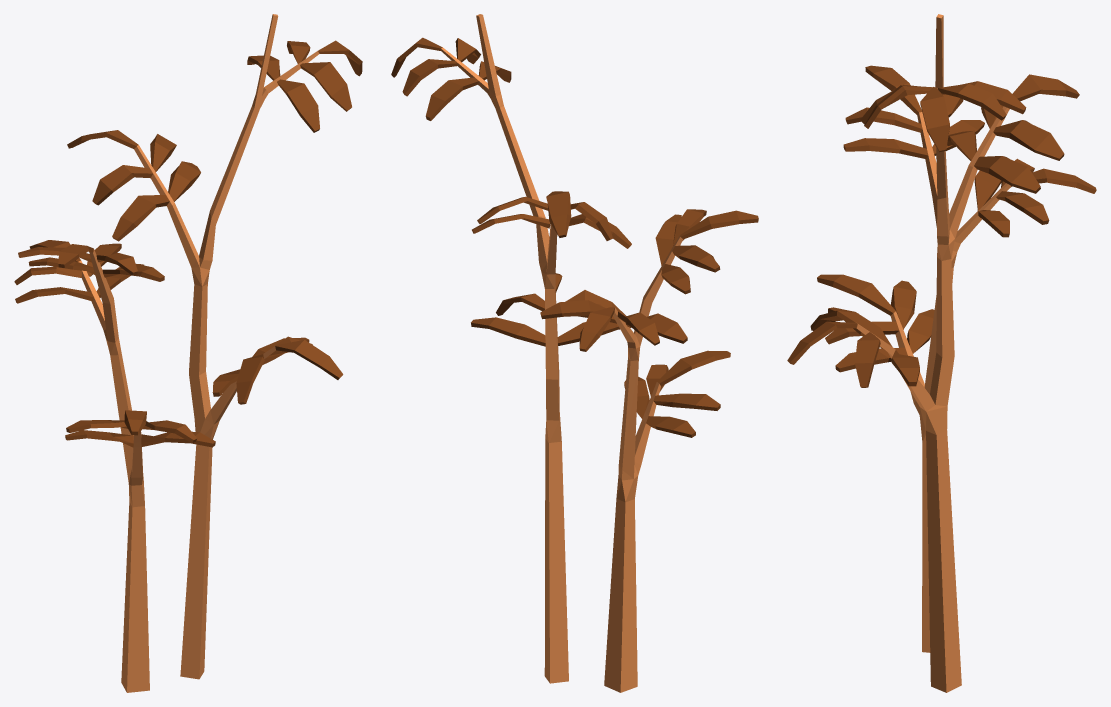
Rendered from Pootato_Dead_L.fbx.
The picture shows the model from 3 angles, left to right: view 1: azimuth 30°, elevation 25°; view 2: azimuth 150°, elevation 25°; view 3: azimuth 270°, elevation 25°; orthographic projection. The views are drawn at different scales.
Visible parts, largest first — view 1: Pootato_Dead_L; view 2: Pootato_Dead_L; view 3: Pootato_Dead_L.
Boxes of the visible parts, x1,y1,x2,y2 form: Pootato_Dead_L: (14, 14, 362, 692); Pootato_Dead_L: (391, 14, 758, 692); Pootato_Dead_L: (787, 14, 1096, 692).
Bounding box in the file's own units: 29.29 × 53.71 × 21.09.
